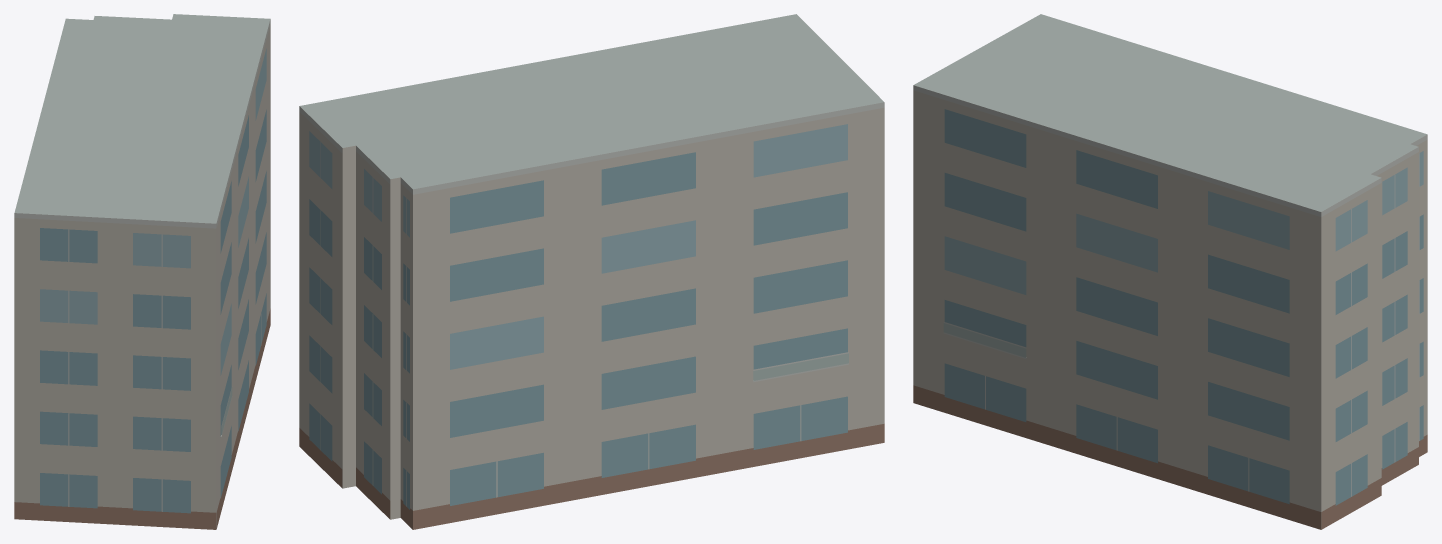
File: survey-upis-32768395.glb
3 renders of one model, left to right at view 1: azimuth 30°, elevation 25°; view 2: azimuth 150°, elevation 25°; view 3: azimuth 270°, elevation 25°, orthographic. The views are drawn at different scales.
Parts seen in each view (by area): view 1: survey-upis-32768395.tmp; view 2: survey-upis-32768395.tmp; view 3: survey-upis-32768395.tmp.
Boxes of the visible parts, x1,y1,x2,y2 form: survey-upis-32768395.tmp: (14,14,270,529); survey-upis-32768395.tmp: (299,14,884,529); survey-upis-32768395.tmp: (913,14,1427,529).
Size of the model in its own units: 20.39 by 15.25 by 22.38.
